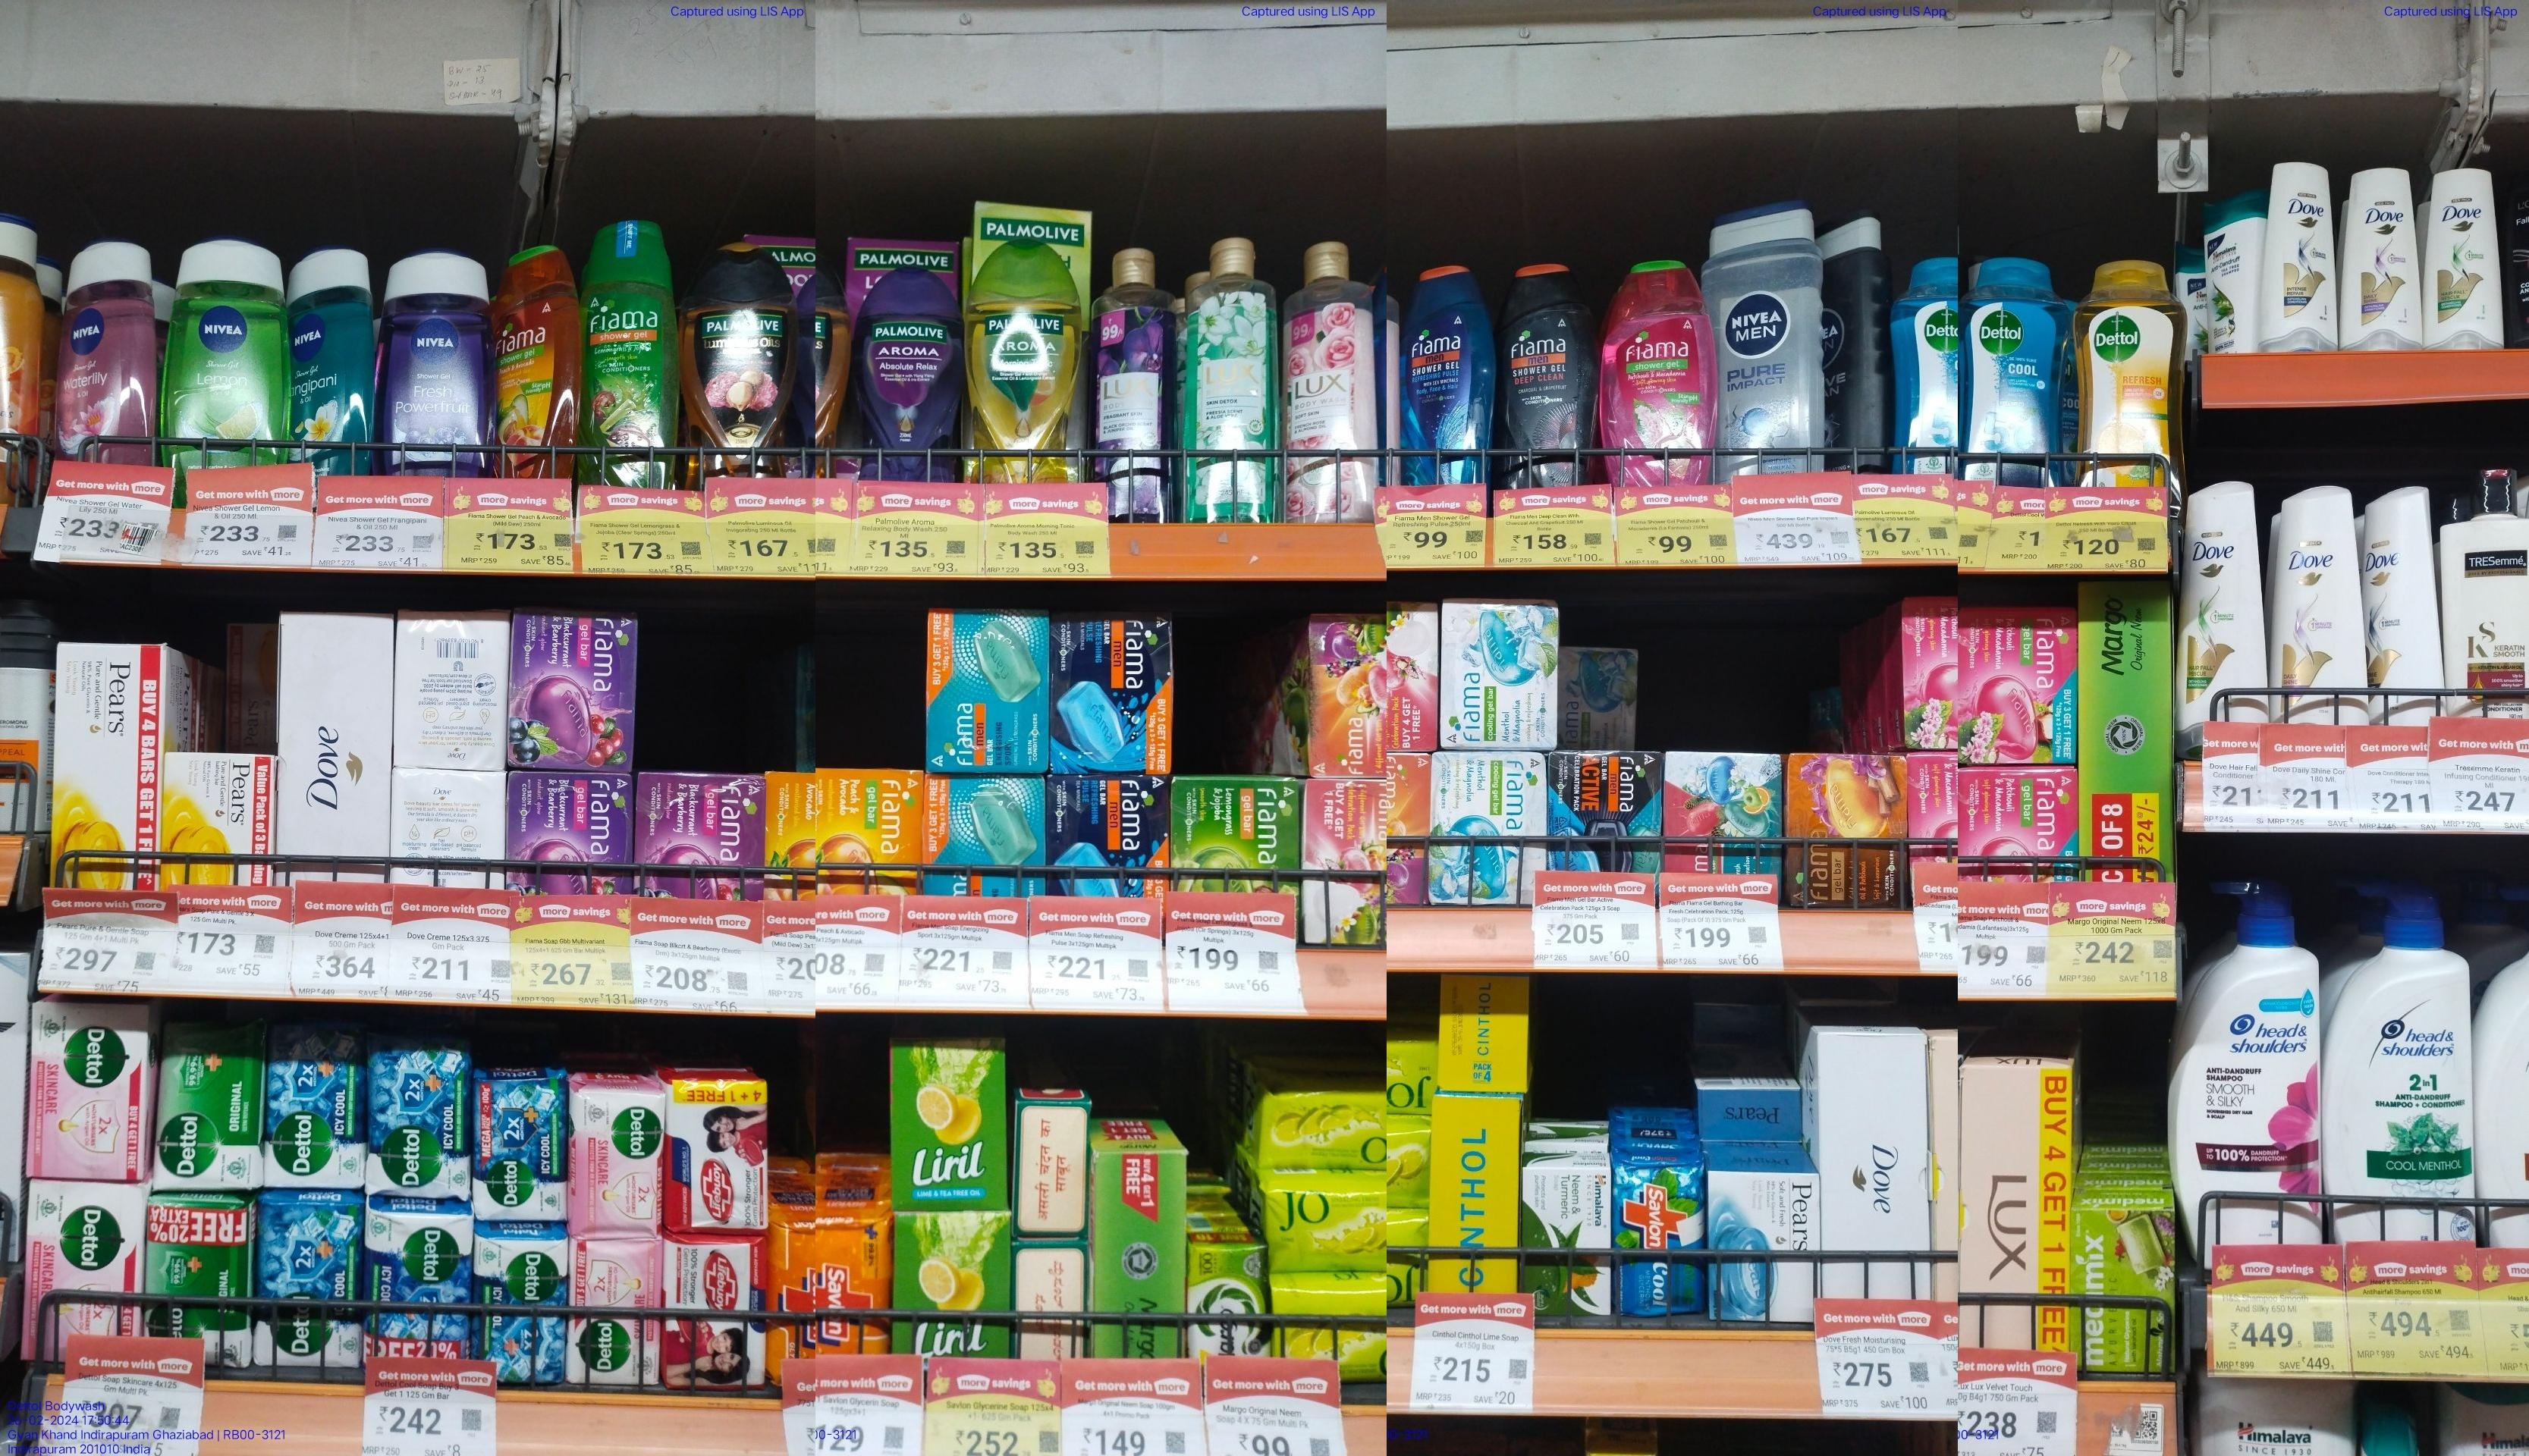Dettol_Bodywash_Cool: (1961, 255, 2058, 486)
Dettol_Bodywash_Refresh: (2069, 261, 2173, 493)
Fiama_Shower_Gel_Patchouli_and_Macadamia_250ML: (1600, 257, 1707, 492)
Fiama_Shower_Gel_Peach_and_Avocado_250ML: (495, 240, 570, 481)
Lux_Black_Orchid_Scent_and_Juniper_Oil_Body_Wash_245ML: (1091, 240, 1176, 525)
Lux_Body_Wash_Skin_Detox_Freesia_Scent_and_Alove_Vera_245ML: (1183, 236, 1273, 525)
Nivea_Shower_Gel_Frangipani_and_Oil_250ML: (288, 243, 372, 476)
Nivea_Shower_Gel_Fresh_Powerfruit_250ML: (384, 247, 490, 476)
Nivea_Shower_Gel_Lemon_and_Oil_250ML: (165, 235, 287, 474)
Nivea_Shower_Gel_Waterlily_and_Oil_250ML: (61, 240, 155, 480)
Palmolive_Aroma_Morning_Tonic_Shower_Gel_250ML: (967, 243, 1077, 499)
Palmolive_Aroma_Relax_250ML: (856, 264, 959, 486)
Palmolive_Luminous_Oils_Invigorating_Macadamia_Oil_With_Peony_250ML: (684, 240, 799, 513)
